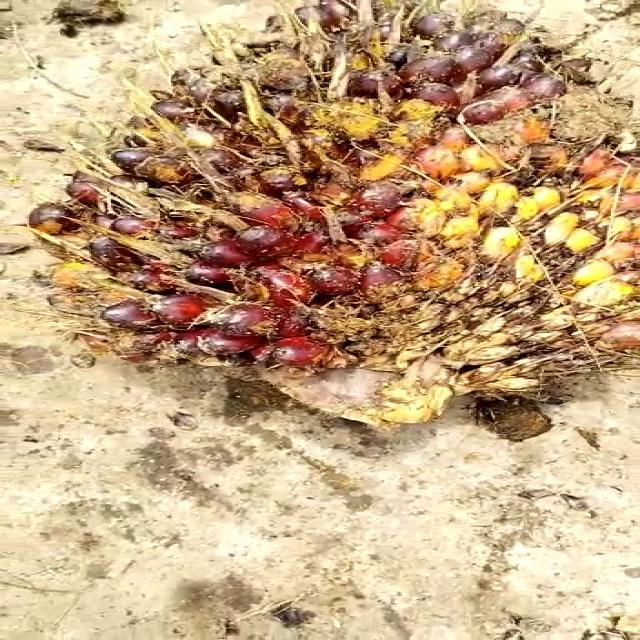palm oil: (41, 0, 640, 430)
